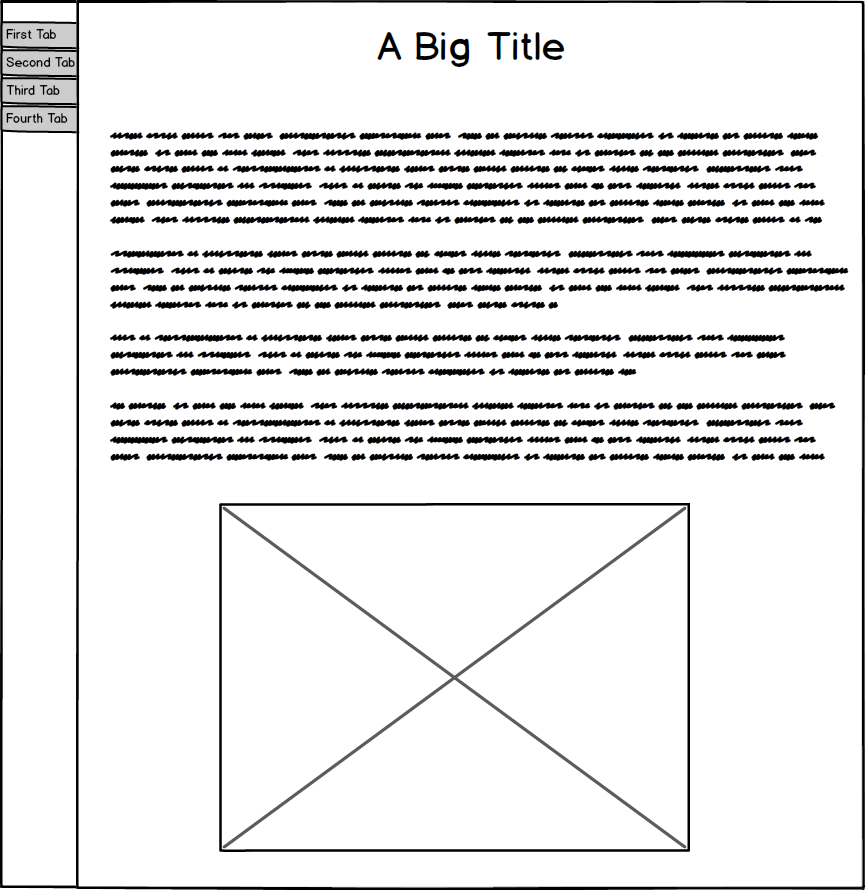h1: (370, 25, 571, 74)
image: (214, 496, 698, 858)
p: (106, 124, 841, 477)
sidebar: (3, 17, 86, 139)
